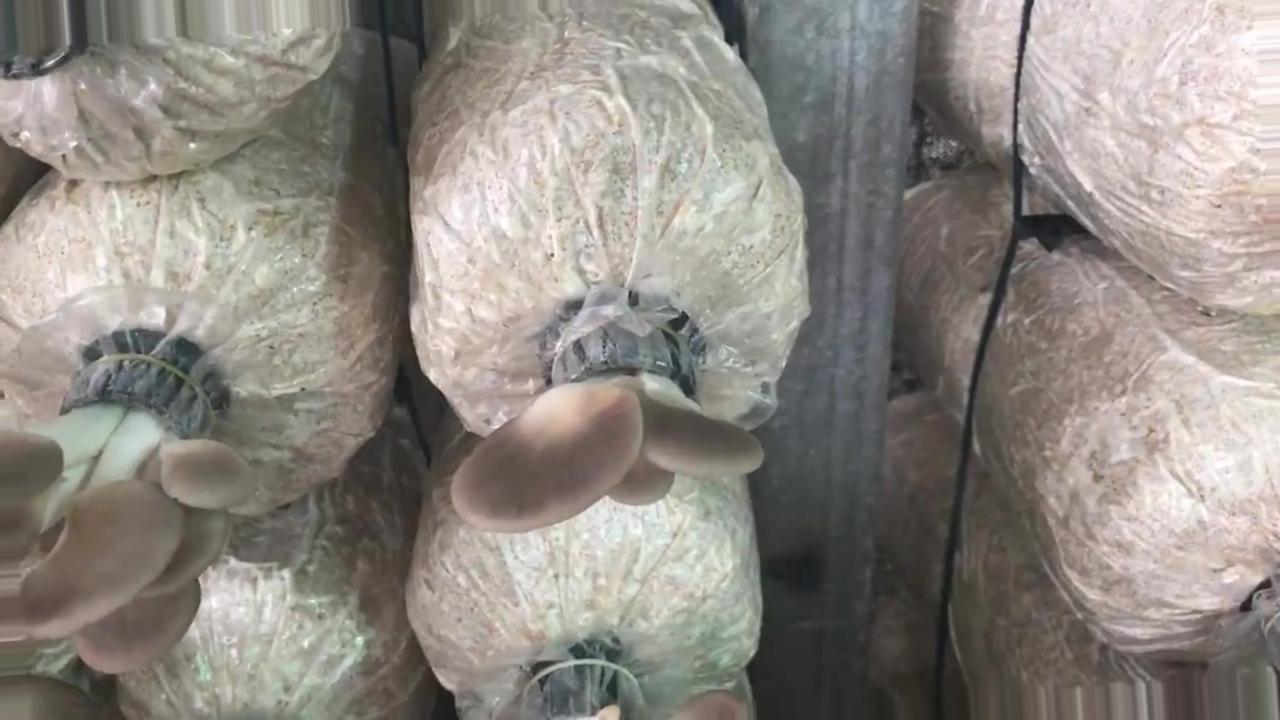nam: (1, 338, 260, 676), (452, 296, 764, 537)
